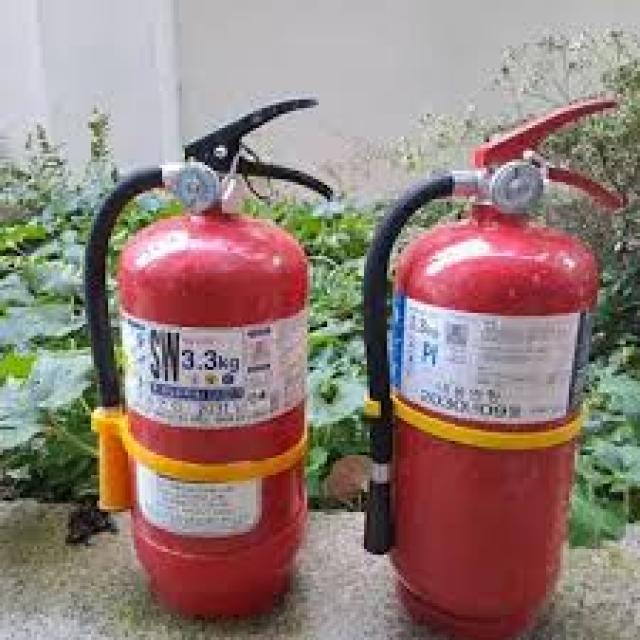pressure gauge: (486, 159, 543, 210), (171, 163, 219, 213), (179, 170, 182, 173)
